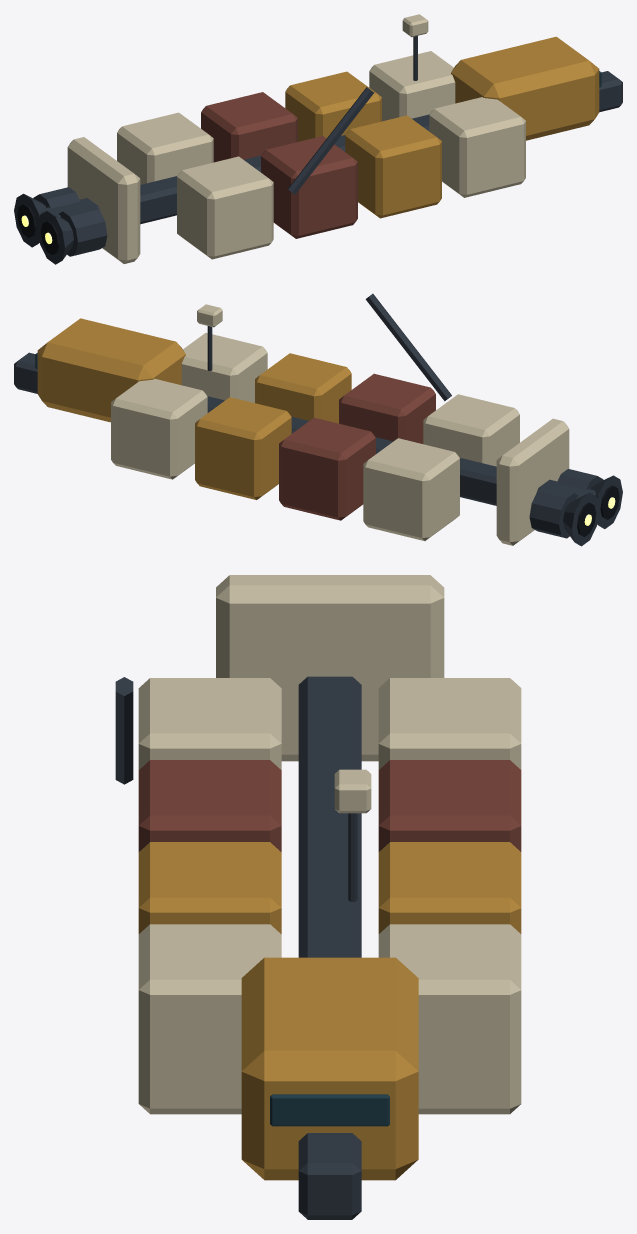
Rendered from general-delivery.glb.
3 views of the same model, one above another, from view 1: azimuth 30°, elevation 25°; view 2: azimuth 150°, elevation 25°; view 3: azimuth 270°, elevation 25° (orthographic). The views are drawn at different scales.
Parts seen in each view (by area): view 1: forward command, freight container, freight container.002, freight container.003, freight container.001, reactor shield, freight container.004, freight container.005, freight container.007, freight container.006, structural spine, engine jacket (+7 smaller); view 2: forward command, freight container.004, freight container.005, freight container.006, freight container.007, reactor shield, freight container, freight container.001, freight container.002, freight container.003, structural spine, engine jacket.001 (+7 smaller); view 3: forward command, reactor shield, structural spine, freight container.003, freight container.007, freight container.002, freight container.006, freight container, freight container.001, freight container.004, freight container.005, bridge glazing (+3 smaller).
Boxes of the visible parts, box(x1,y1,x2,y2) form: forward command: box(451, 36, 599, 140); freight container: box(177, 156, 273, 259); freight container.002: box(345, 115, 441, 218); freight container.003: box(429, 97, 525, 197); freight container.001: box(261, 136, 357, 238); reactor shield: box(67, 137, 140, 263); freight container.004: box(117, 112, 213, 184); freight container.005: box(201, 92, 297, 162); freight container.007: box(369, 51, 455, 121); freight container.006: box(285, 71, 381, 141); structural spine: box(41, 71, 622, 224); engine jacket: box(59, 204, 107, 256); forward command: box(37, 318, 185, 422); freight container.004: box(363, 438, 459, 540); freight container.005: box(279, 417, 375, 520); freight container.006: box(195, 397, 291, 499); freight container.007: box(111, 378, 207, 479); reactor shield: box(496, 418, 569, 545); freight container: box(423, 394, 519, 466); freight container.001: box(339, 373, 435, 443); freight container.002: box(255, 353, 351, 423); freight container.003: box(181, 332, 267, 402); structural spine: box(14, 352, 595, 505); engine jacket.001: box(529, 486, 578, 538); forward command: box(241, 957, 418, 1180); reactor shield: box(216, 575, 444, 761); structural spine: box(298, 676, 361, 1219); freight container.003: box(138, 924, 281, 1114); freight container.007: box(378, 924, 521, 1114); freight container.002: box(138, 842, 281, 934); freight container.006: box(378, 842, 521, 933); freight container: box(138, 678, 281, 769); freight container.001: box(138, 760, 281, 851); freight container.004: box(378, 678, 521, 769); freight container.005: box(378, 760, 521, 851); bridge glazing: box(270, 1094, 389, 1126).
Bounding box in the file's own units: 11.75 × 2.79 × 3.55.
